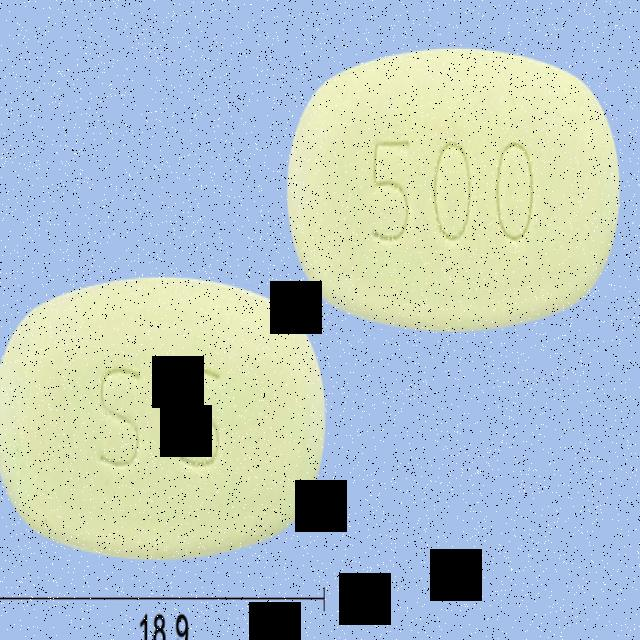Samsung Clarithromycin Tab-500mg: (0, 274, 327, 560), (288, 48, 622, 328)
